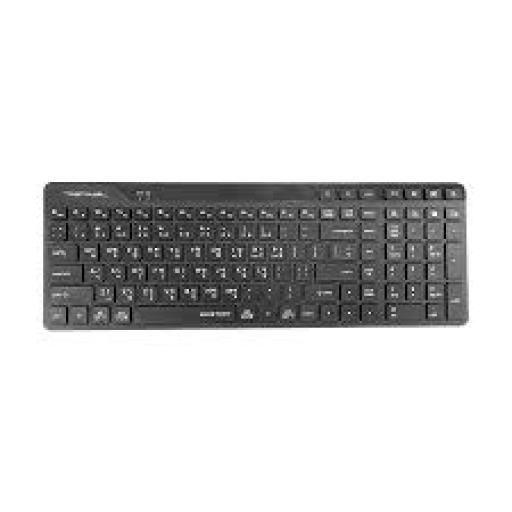keyboard: (46, 182, 466, 328)
